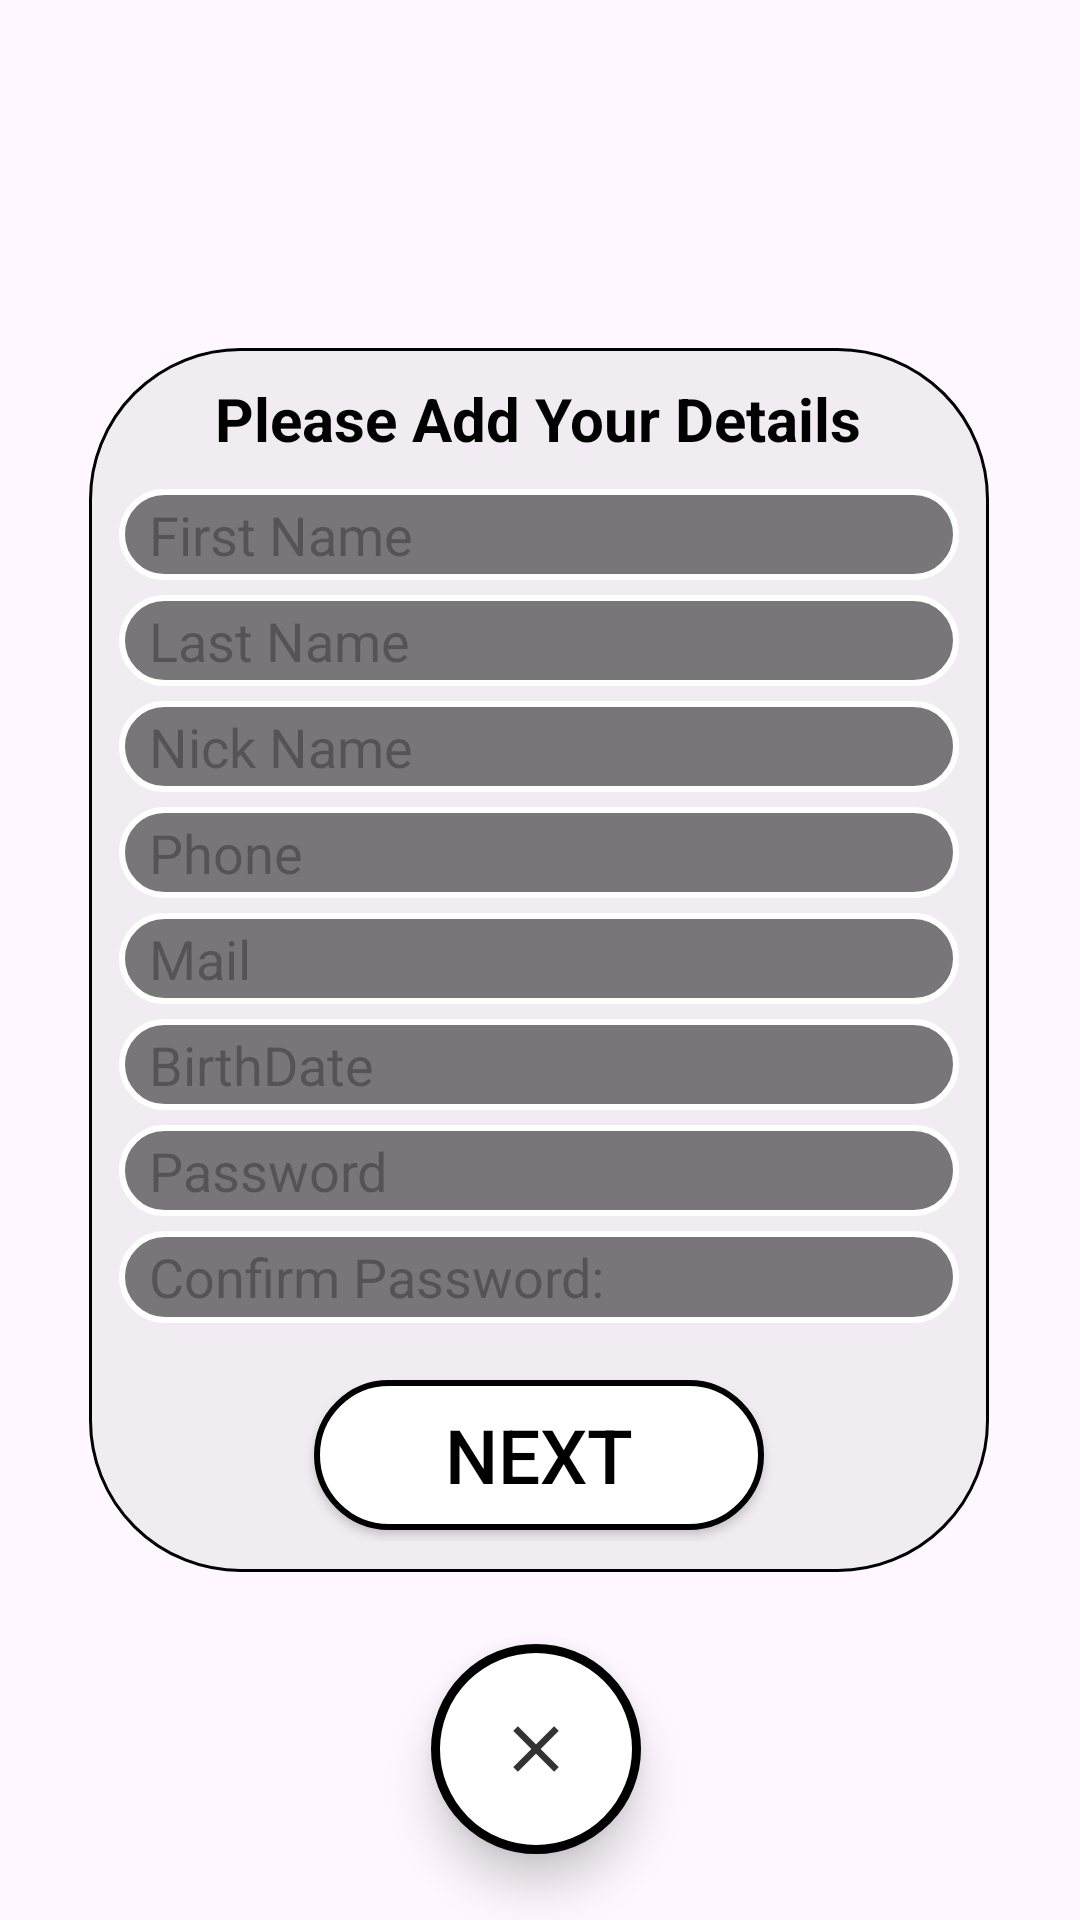

Where to tap for icons on this 1080x1920 app screen, as point (x, y):
close: point (536, 1749)
